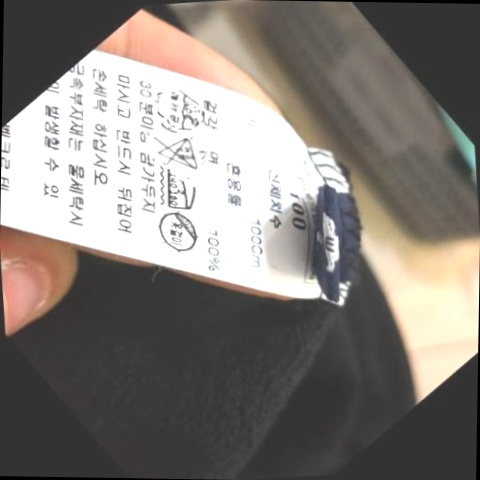hand_wash: (162, 83, 206, 132)
iron_medium: (163, 170, 203, 211)
line_dry_in_shade: (154, 207, 206, 257)
non_chlorine_bleach: (155, 134, 201, 172)
